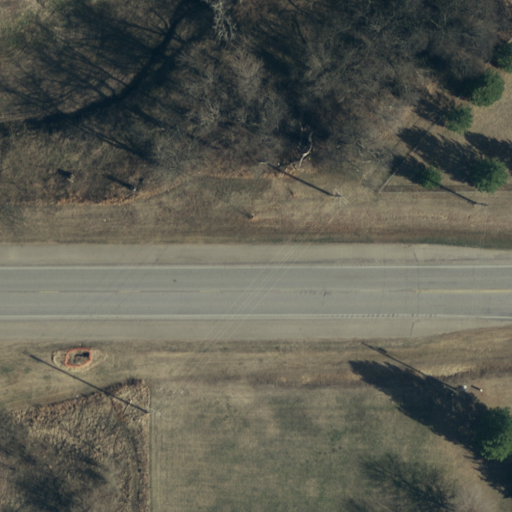DT: (136, 401, 168, 426), (326, 185, 355, 209), (468, 194, 493, 217)
